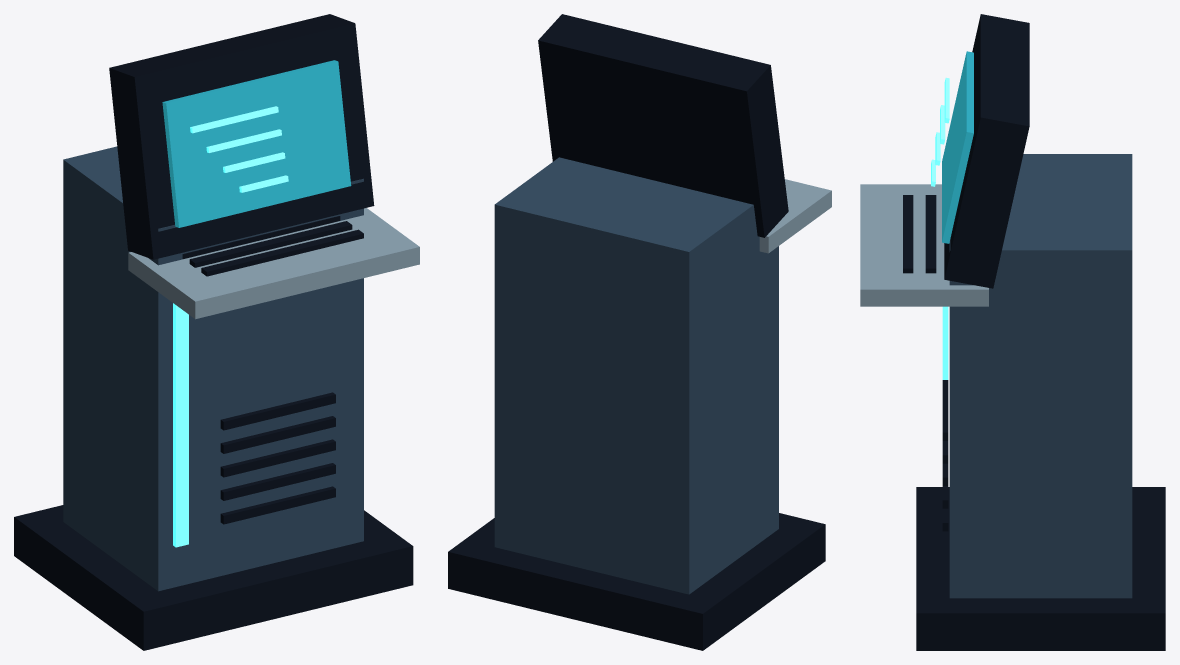
Rendered from terminal.glb.
3 views of the same model, side by side, from view 1: azimuth 30°, elevation 25°; view 2: azimuth 150°, elevation 25°; view 3: azimuth 270°, elevation 25° (orthographic). The views are drawn at different scales.
Visible parts, largest first — view 1: prop-terminal-sz-armor, prop-terminal-sz-rubber, prop-terminal-sz-screen, prop-terminal-sz-edge, prop-terminal-sz-mint; view 2: prop-terminal-sz-armor, prop-terminal-sz-rubber, prop-terminal-sz-edge; view 3: prop-terminal-sz-armor, prop-terminal-sz-rubber, prop-terminal-sz-edge, prop-terminal-sz-screen, prop-terminal-sz-mint.
Part boxes in pixels (x1,y1,x2,y2): prop-terminal-sz-armor: [63, 146, 363, 591]; prop-terminal-sz-rubber: [14, 14, 413, 650]; prop-terminal-sz-screen: [162, 60, 351, 227]; prop-terminal-sz-edge: [128, 208, 419, 319]; prop-terminal-sz-mint: [173, 106, 288, 547]; prop-terminal-sz-armor: [494, 157, 778, 594]; prop-terminal-sz-rubber: [448, 14, 825, 650]; prop-terminal-sz-edge: [759, 179, 831, 253]; prop-terminal-sz-armor: [949, 154, 1132, 598]; prop-terminal-sz-rubber: [903, 14, 1165, 650]; prop-terminal-sz-edge: [860, 184, 988, 306]; prop-terminal-sz-screen: [942, 51, 973, 243]; prop-terminal-sz-mint: [931, 77, 949, 379].
Bounding box in the file's own units: 0.72 × 1.39 × 0.735.
